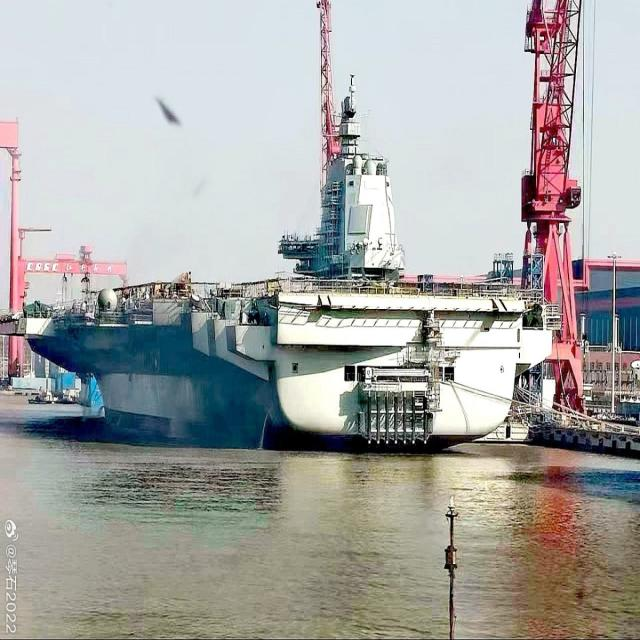Aircraft-Carrier-Fujian-Class-CHI: (22, 66, 548, 448)
